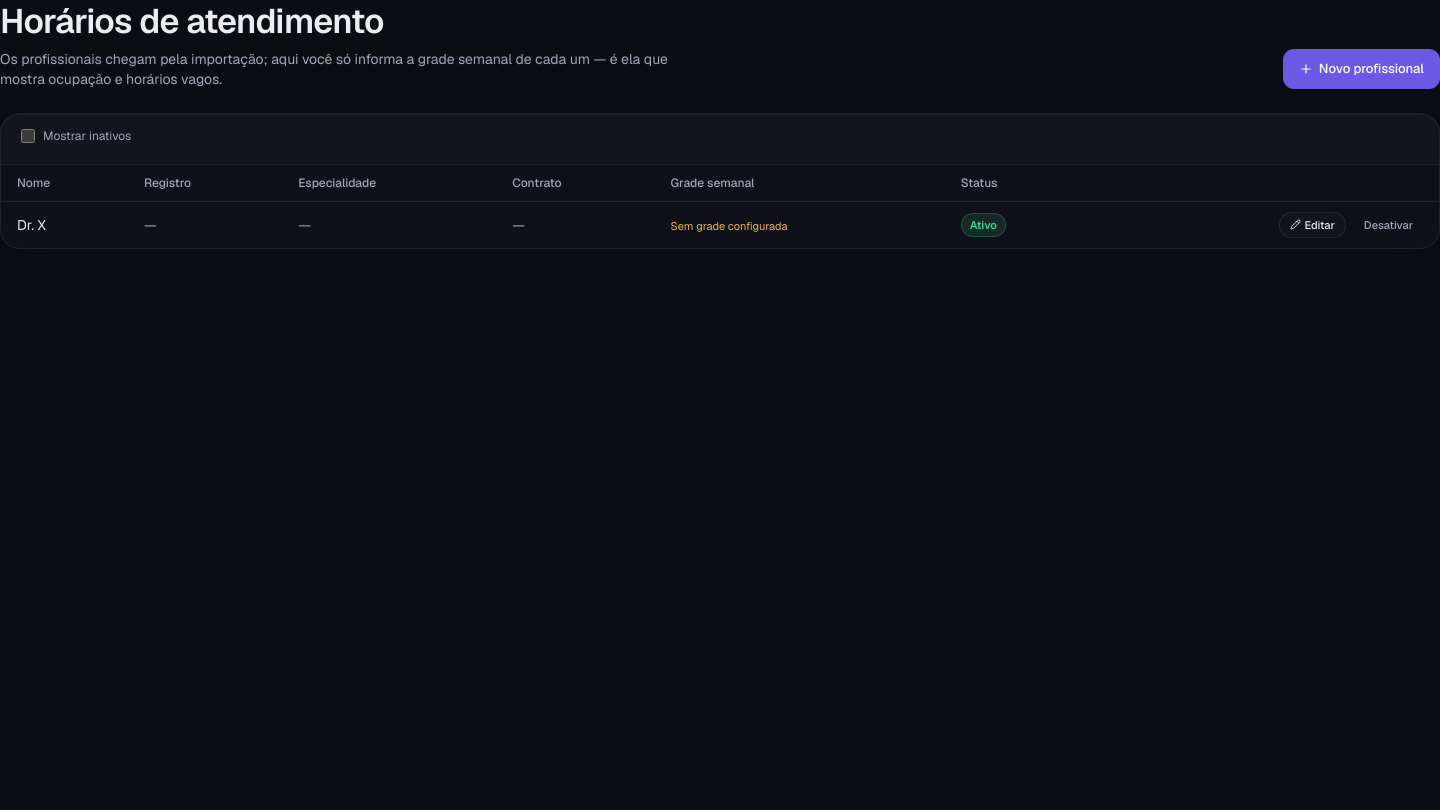
Test: ProfessionalsPage — ausências planejadas › rodada 9 (M3): ausência com consultas já marcadas no período avisa para remarcar
Expected: the text "Dr. X" is shown, [1,201,128,248]
Step 1. Click the button "Editar" → (1312, 224), box [1278,212,1346,238]
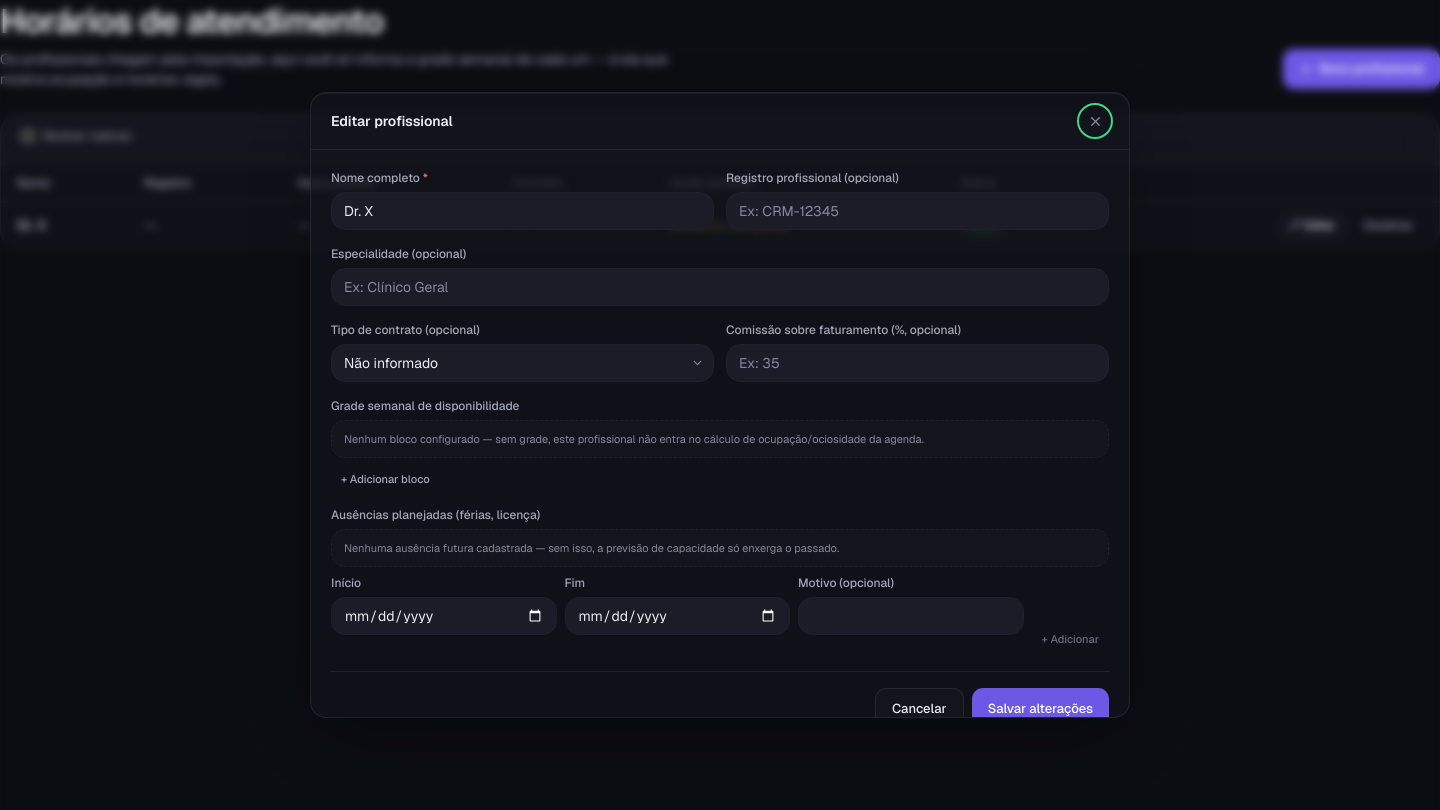
Step 2. Type "2026-12-20" into the date field labelled "Início" → (444, 616), box [331,597,556,635]
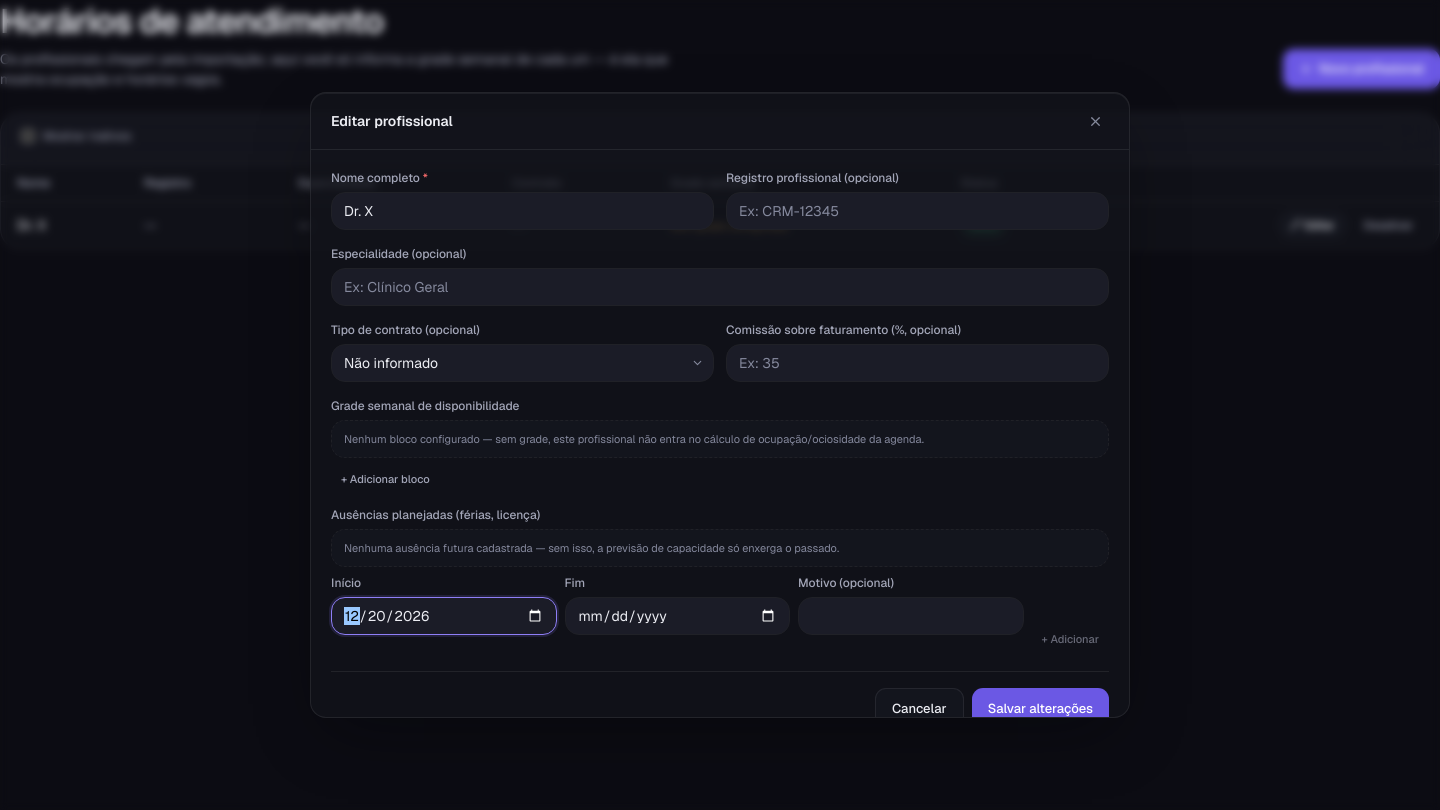
Step 3. Type "2026-12-22" into the date field labelled "Fim" → (677, 616), box [564,597,790,635]
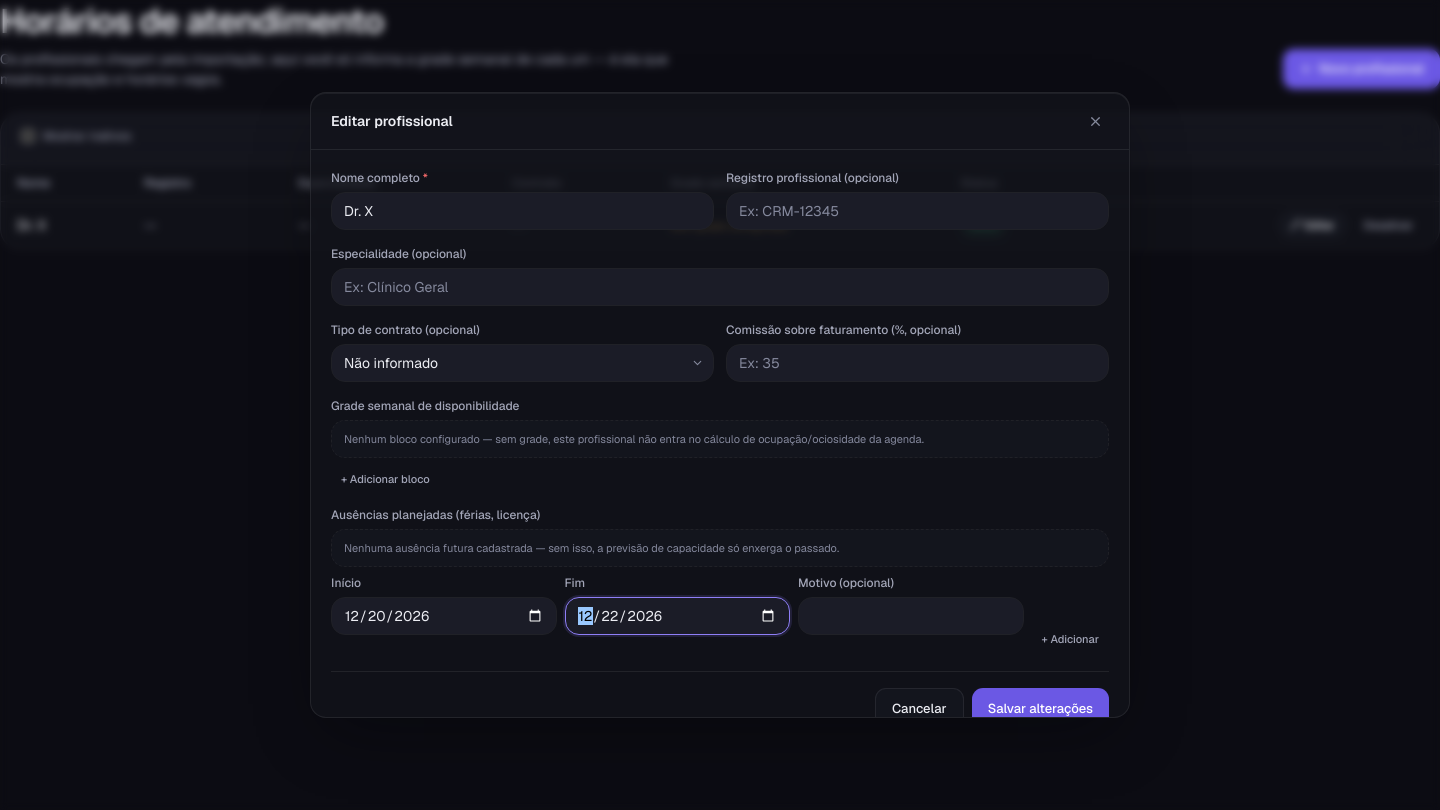
Step 4. Click the button "+ Adicionar" → (1070, 639), box [1032,627,1109,651]
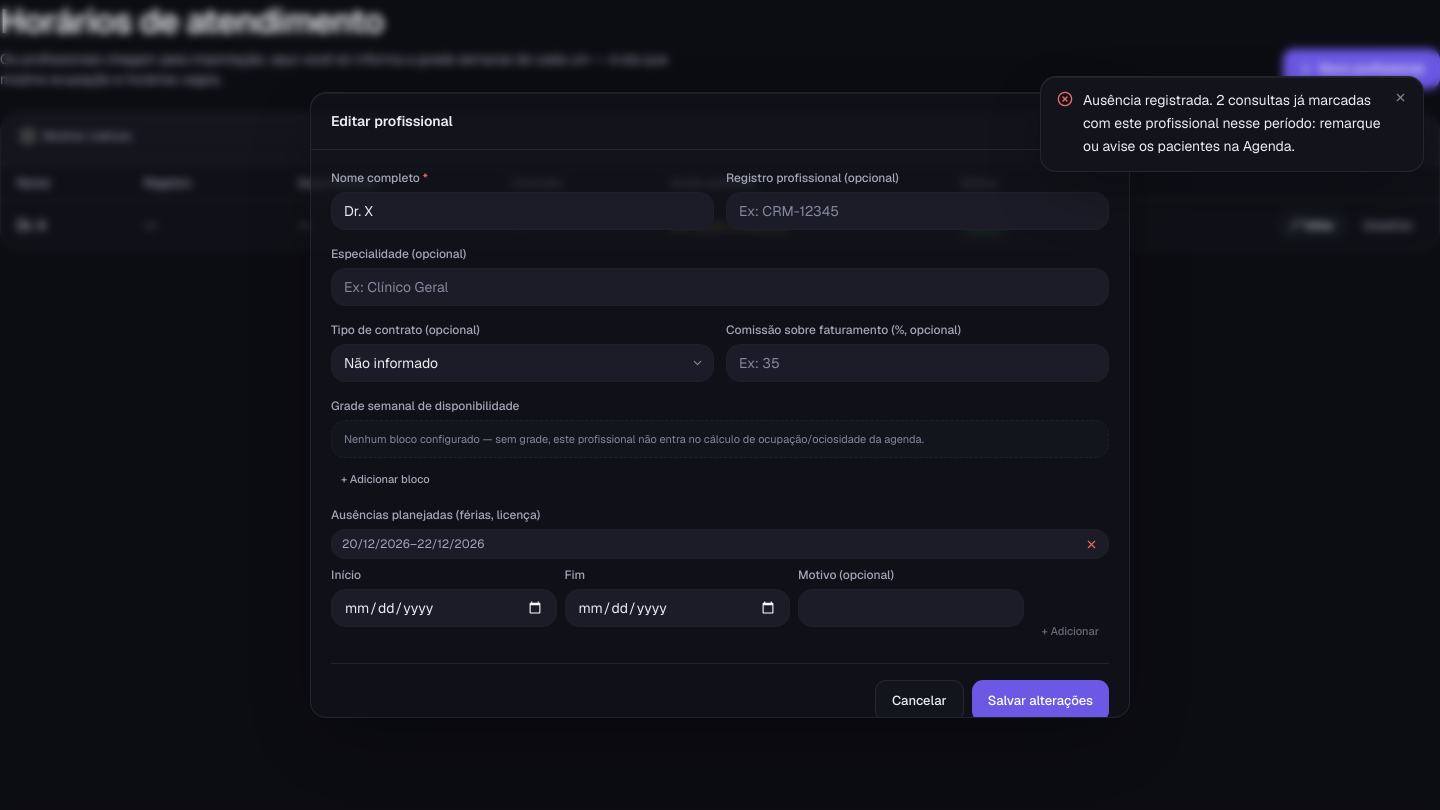
Expected: the text "2 consultas já marcadas" is shown, [1083,91,1381,154]
